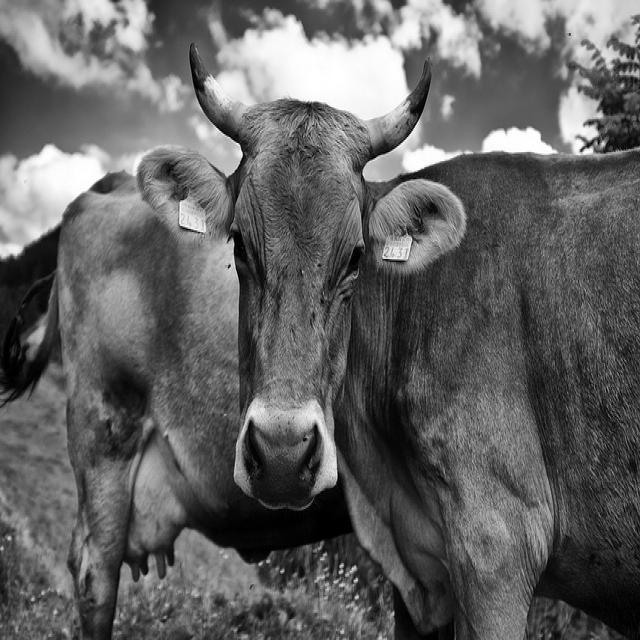cow: (136, 41, 639, 637), (1, 166, 352, 631)
